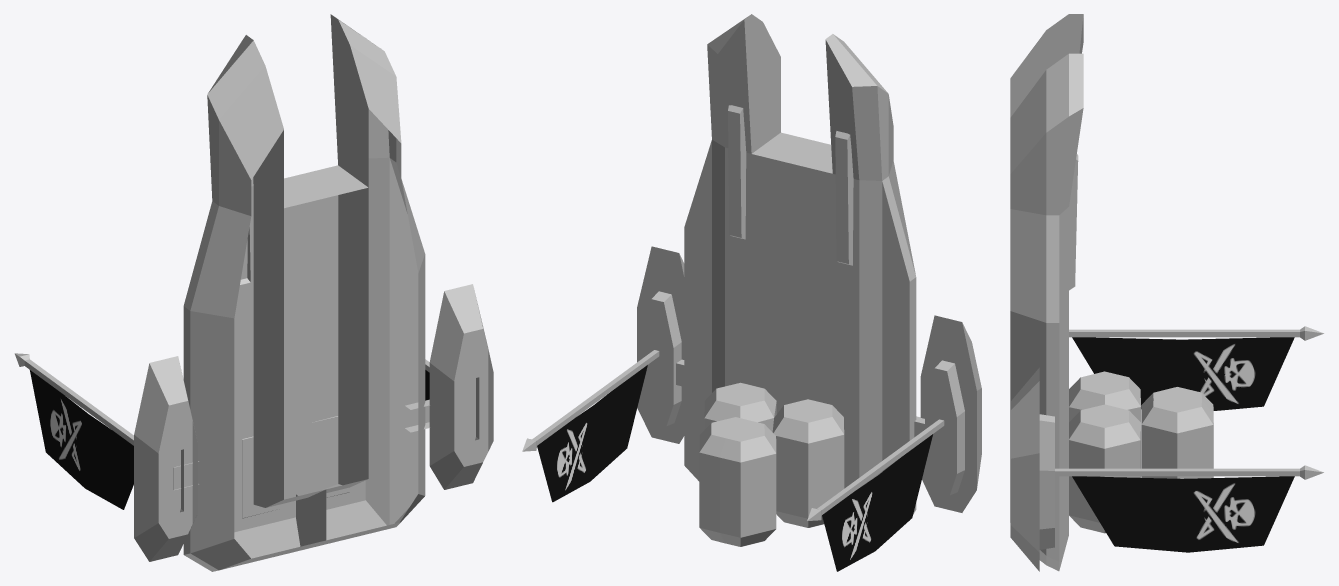
The model's file is gas_my_2_body.fbx.
The picture shows the model from 3 angles, left to right: view 1: azimuth 30°, elevation 25°; view 2: azimuth 150°, elevation 25°; view 3: azimuth 270°, elevation 25°; orthographic projection. The views are drawn at different scales.
Visible parts, largest first — view 1: Cube.414; view 2: Cube.414; view 3: Cube.414.
Part boxes in pixels (box(x1,y1,x2,y2)): Cube.414: box(14, 14, 493, 571); Cube.414: box(522, 14, 981, 571); Cube.414: box(1010, 14, 1323, 571).
Bounding box in the file's own units: 464 × 647 × 371.
